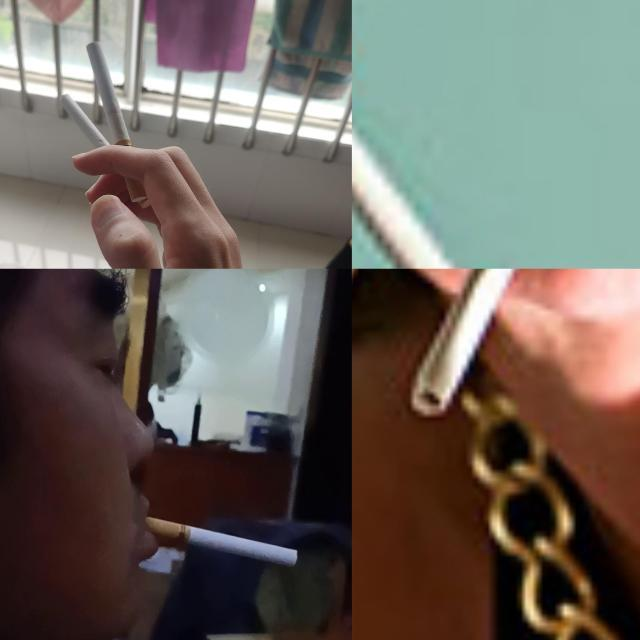smoking: (352, 0, 518, 268), (408, 268, 572, 418), (60, 93, 154, 210), (84, 41, 148, 205), (144, 515, 300, 568)
